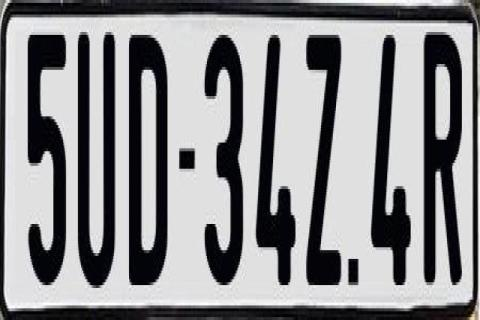0: (254, 26, 300, 276), (28, 29, 69, 282), (372, 35, 412, 291), (204, 26, 243, 282)
D: (126, 35, 164, 297)
R: (422, 24, 460, 282)
U: (78, 23, 116, 297)
Z: (306, 27, 346, 280)
